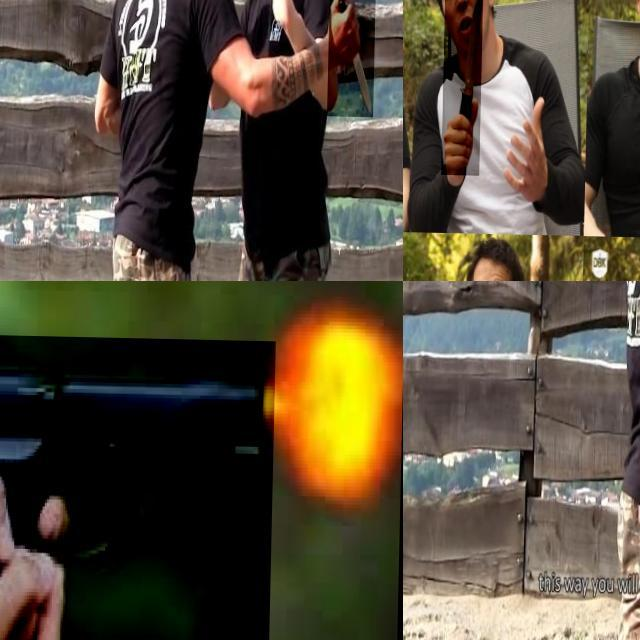-: (442, 0, 483, 174), (328, 0, 377, 114)
gun-knife-thesis - v11 Yolov5 augmented: (0, 332, 277, 640)
